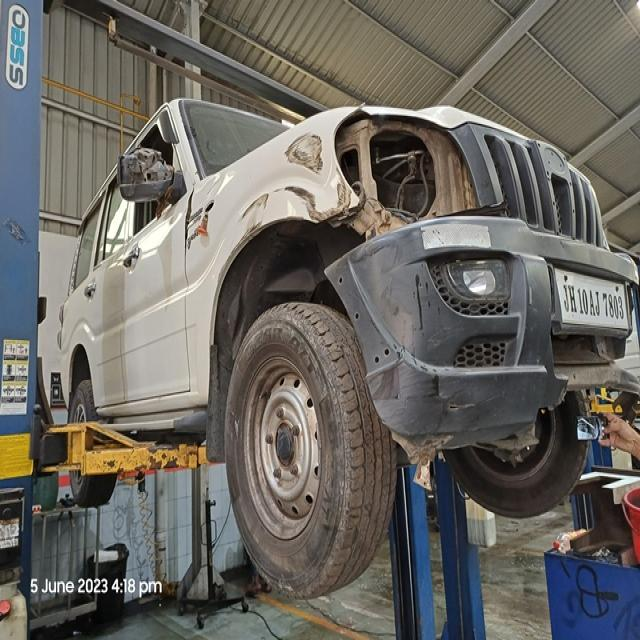damage: (342, 105, 481, 209), (538, 329, 640, 413), (313, 182, 389, 279), (239, 183, 350, 220), (116, 148, 168, 194), (285, 136, 323, 170), (202, 170, 234, 194), (203, 195, 217, 210)
